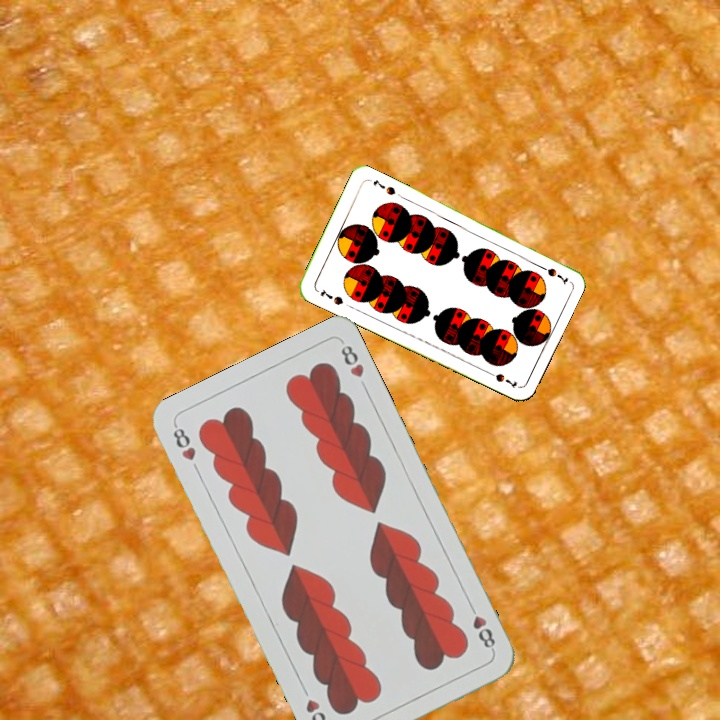H8: (464, 599, 498, 655), (169, 421, 199, 464)
S7: (533, 260, 571, 285), (316, 285, 346, 307)
